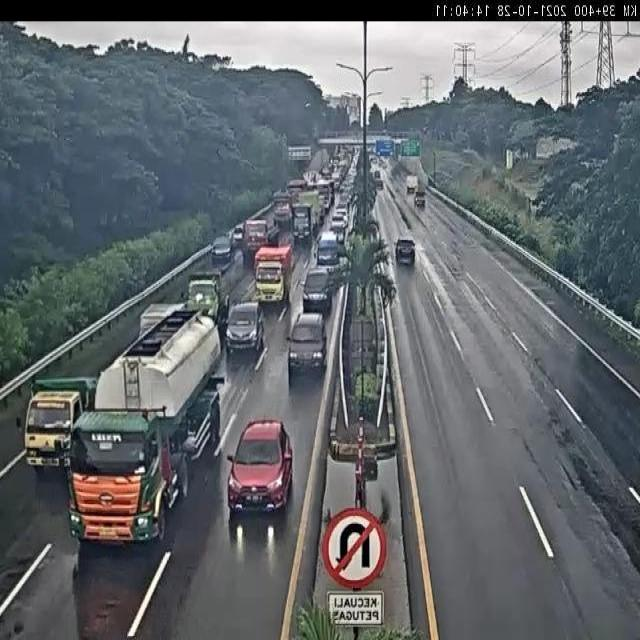Car: (218, 399, 312, 535), (286, 312, 326, 380), (224, 300, 267, 360), (302, 266, 334, 314), (210, 236, 232, 270), (395, 237, 416, 265)
Truck: (68, 296, 222, 544), (24, 381, 90, 473), (33, 376, 98, 414), (254, 244, 293, 306), (336, 278, 356, 390), (186, 271, 224, 322), (139, 302, 182, 343), (243, 218, 272, 265), (291, 202, 313, 245), (316, 231, 340, 266), (208, 351, 228, 388), (217, 291, 231, 343), (273, 196, 292, 230), (287, 184, 306, 218), (316, 136, 357, 150), (334, 254, 350, 288), (364, 218, 382, 247), (361, 451, 378, 481), (414, 158, 429, 192), (357, 274, 369, 316), (338, 148, 354, 178), (426, 123, 452, 141), (317, 183, 332, 214), (348, 188, 362, 221), (310, 197, 324, 230), (378, 490, 391, 524), (348, 148, 362, 179), (536, 137, 555, 159), (372, 260, 387, 285), (334, 206, 348, 231), (376, 317, 385, 355), (345, 139, 376, 150), (375, 445, 395, 462), (580, 157, 606, 170), (346, 202, 356, 235), (371, 138, 388, 157), (279, 232, 293, 254), (336, 221, 348, 245), (343, 179, 356, 201), (232, 224, 244, 246), (319, 166, 332, 185), (406, 175, 418, 195), (339, 144, 356, 158), (370, 163, 381, 184), (414, 189, 426, 208), (331, 169, 342, 188), (320, 130, 340, 140), (273, 189, 286, 204), (327, 175, 337, 194), (336, 173, 346, 192), (451, 266, 464, 280), (387, 284, 397, 302), (235, 247, 244, 266), (366, 142, 376, 158), (407, 136, 419, 149), (395, 140, 403, 158), (304, 177, 315, 190), (506, 150, 513, 170), (378, 156, 388, 169), (427, 174, 436, 188), (462, 147, 476, 156), (388, 184, 396, 198), (392, 138, 404, 147), (367, 156, 376, 168), (312, 133, 320, 146), (422, 124, 430, 137), (16, 415, 22, 429), (379, 130, 389, 137), (180, 290, 186, 300)
